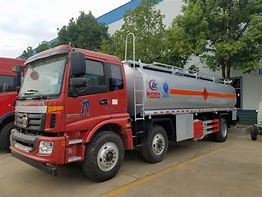oil truck: (8, 44, 240, 180)
